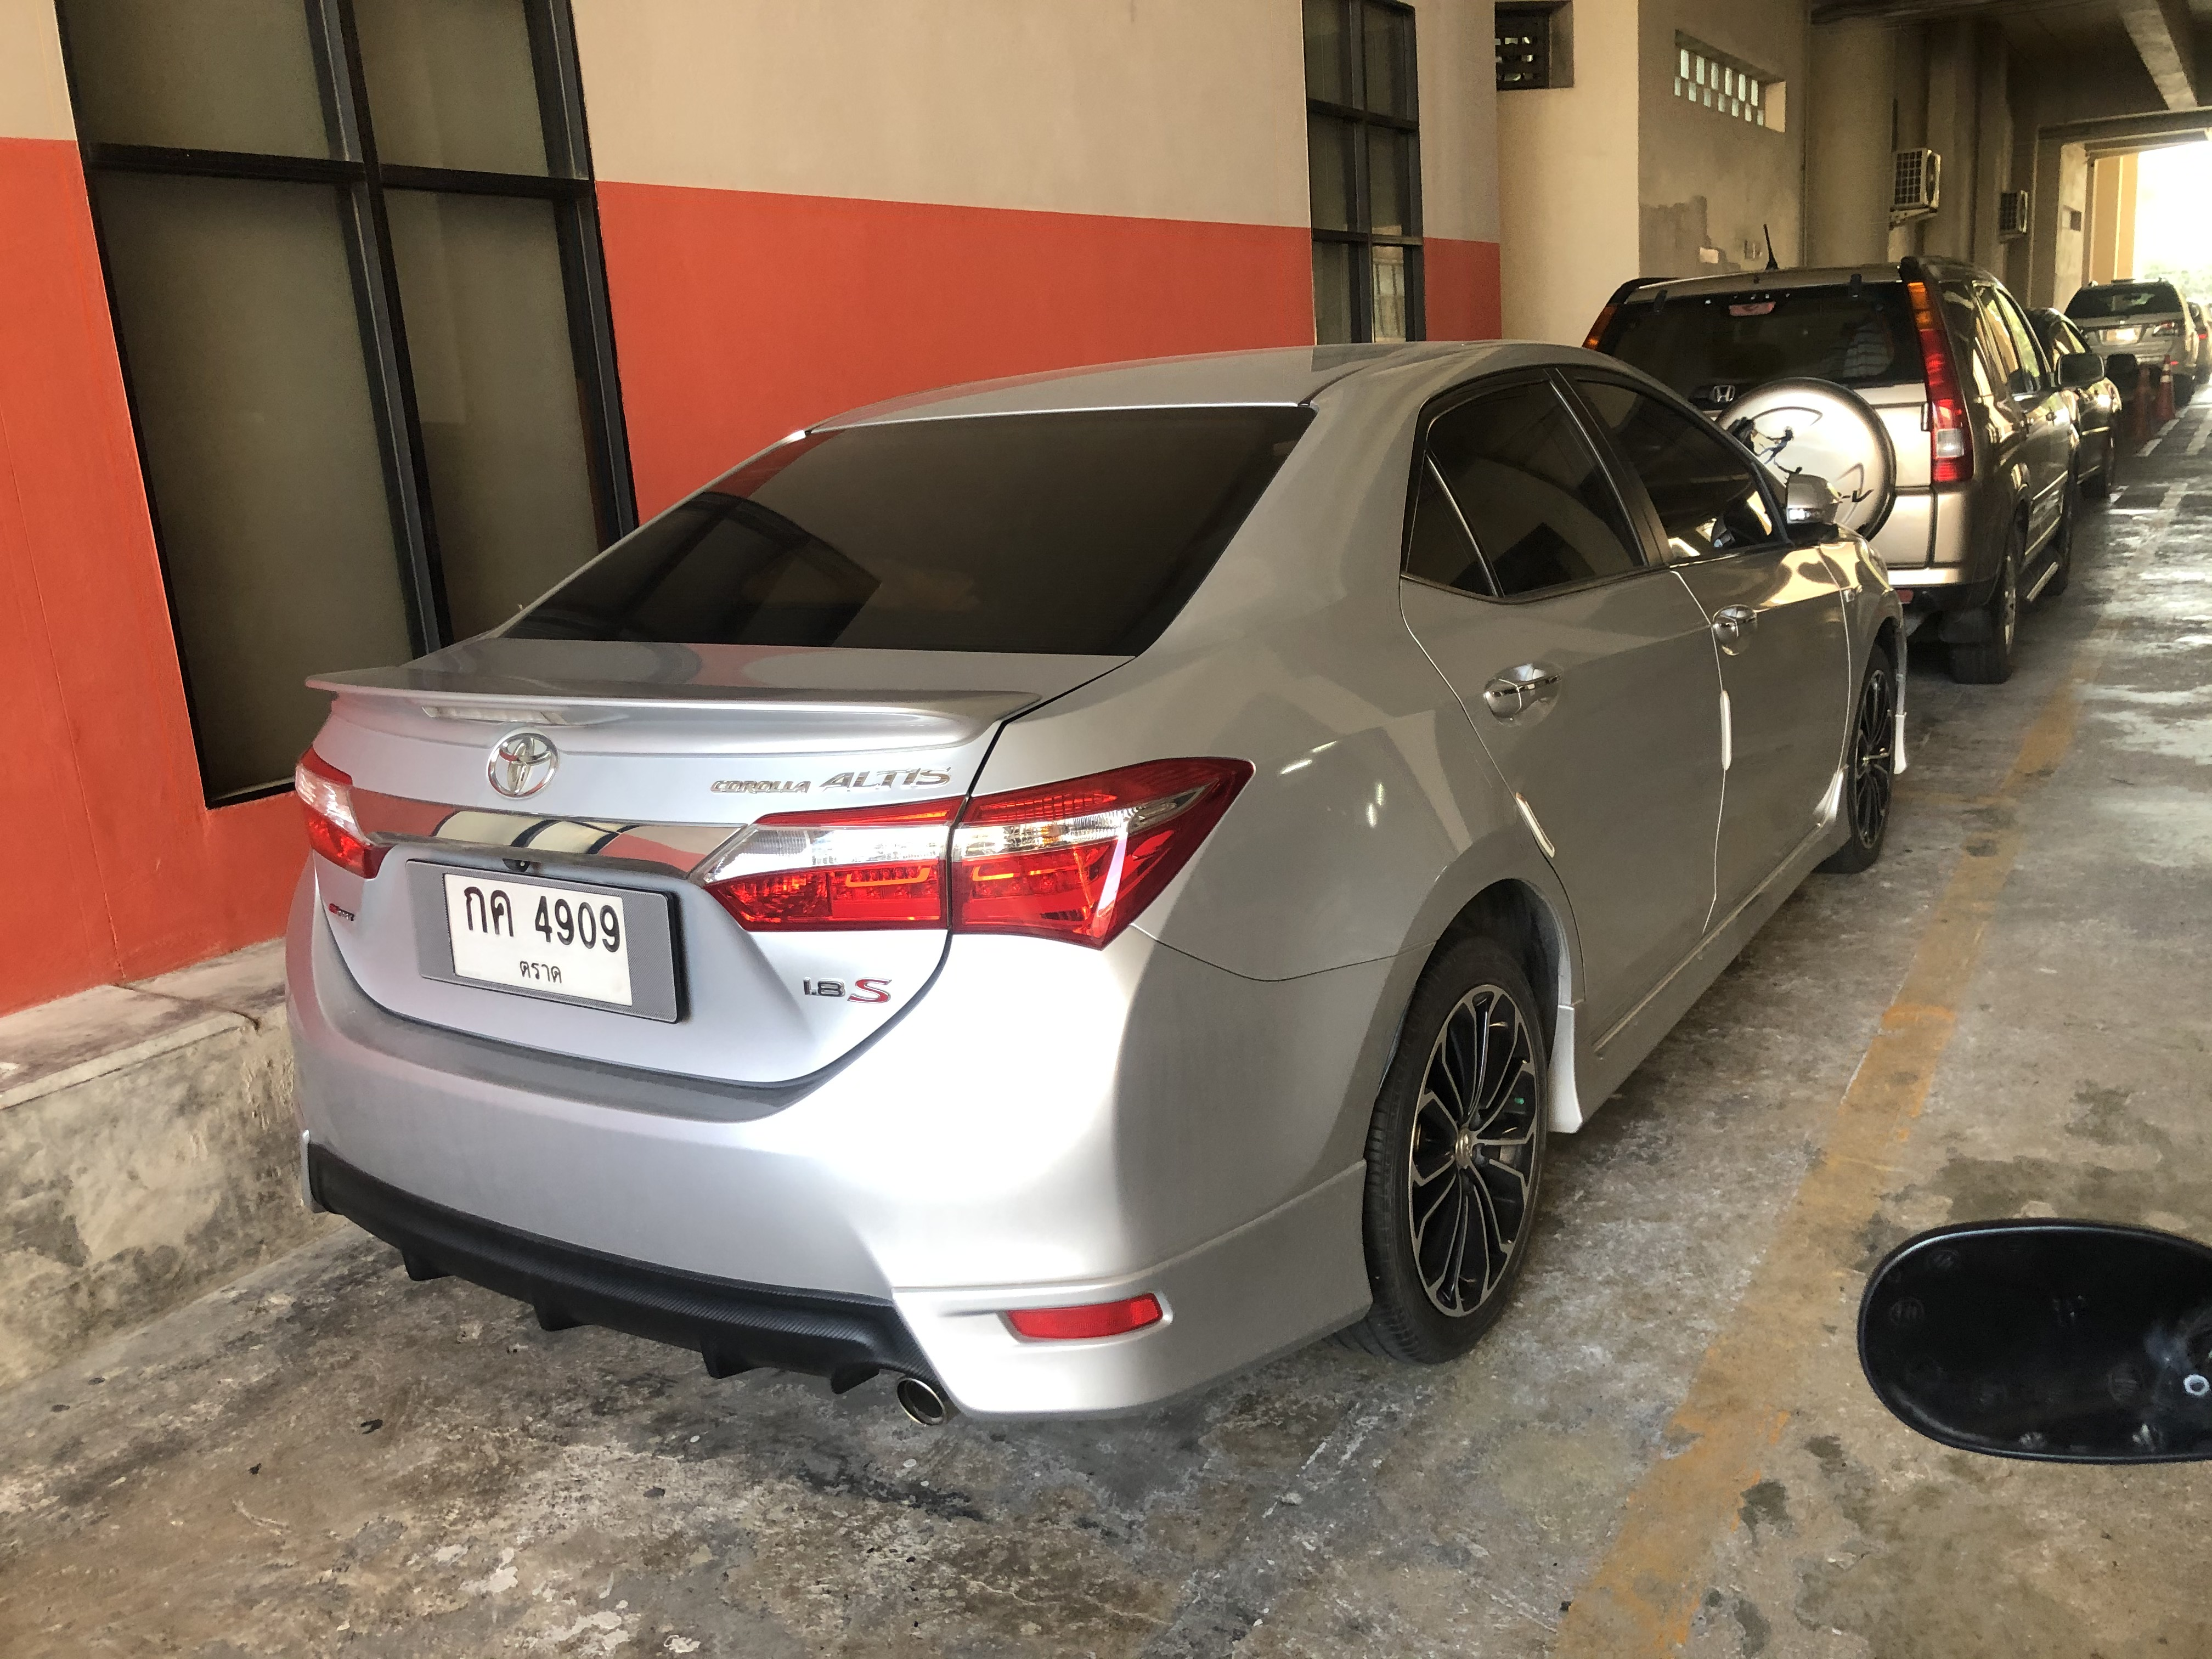in: (442, 873, 636, 1012)
out: (404, 856, 683, 1028)
